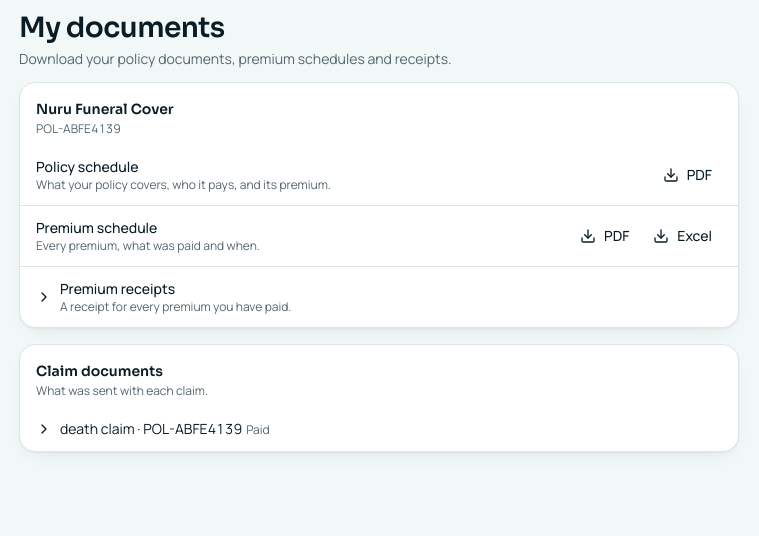
it: CustomerDocumentsPage › shows the documents sent with a claim
Click the button "death claim · POL-ABFE4139Paid".
click(79, 428)  # box top-left (20, 407), bottom-right (738, 451)
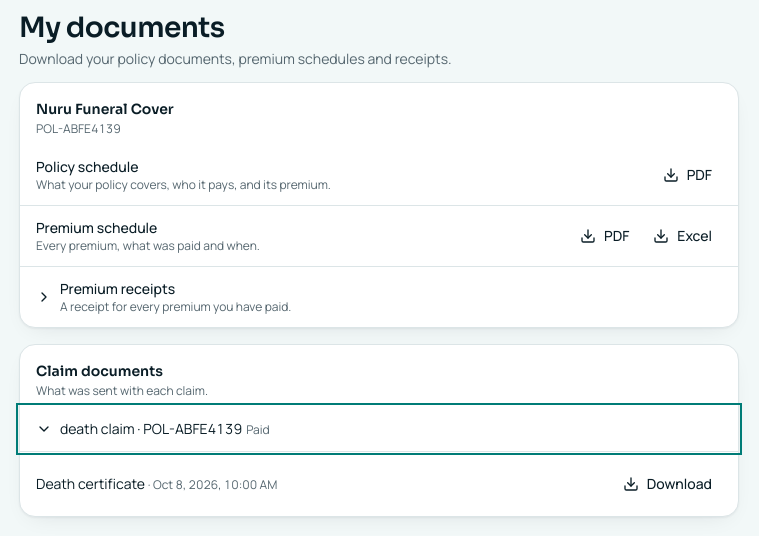
Check: the text "Death certificate" is shown, box top-left (36, 474), bottom-right (145, 493)
